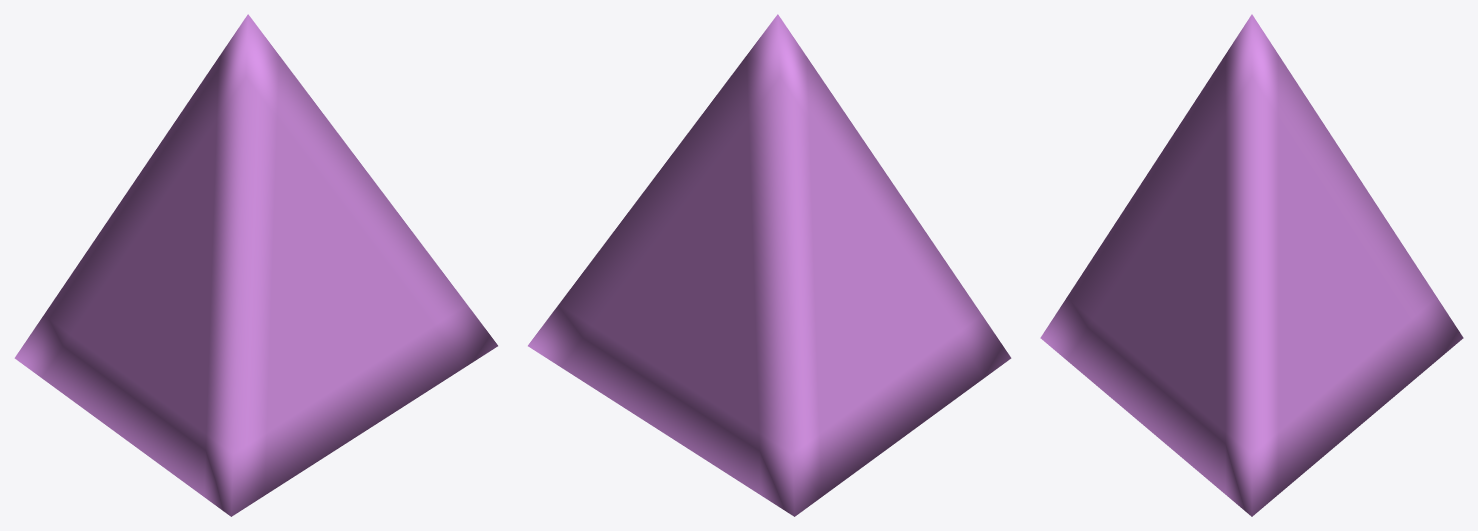
The picture shows the model from 3 angles, left to right: view 1: azimuth 30°, elevation 25°; view 2: azimuth 150°, elevation 25°; view 3: azimuth 270°, elevation 25°; orthographic projection. The views are drawn at different scales.
Parts seen in each view (by area): view 1: Solid; view 2: Solid; view 3: Solid.
Boxes of the visible parts, x1=… form: Solid: x1=14, y1=14, x2=497, y2=516; Solid: x1=528, y1=14, x2=1011, y2=516; Solid: x1=1040, y1=14, x2=1463, y2=516.
Bounding box in the file's own units: 300 × 300 × 300.
